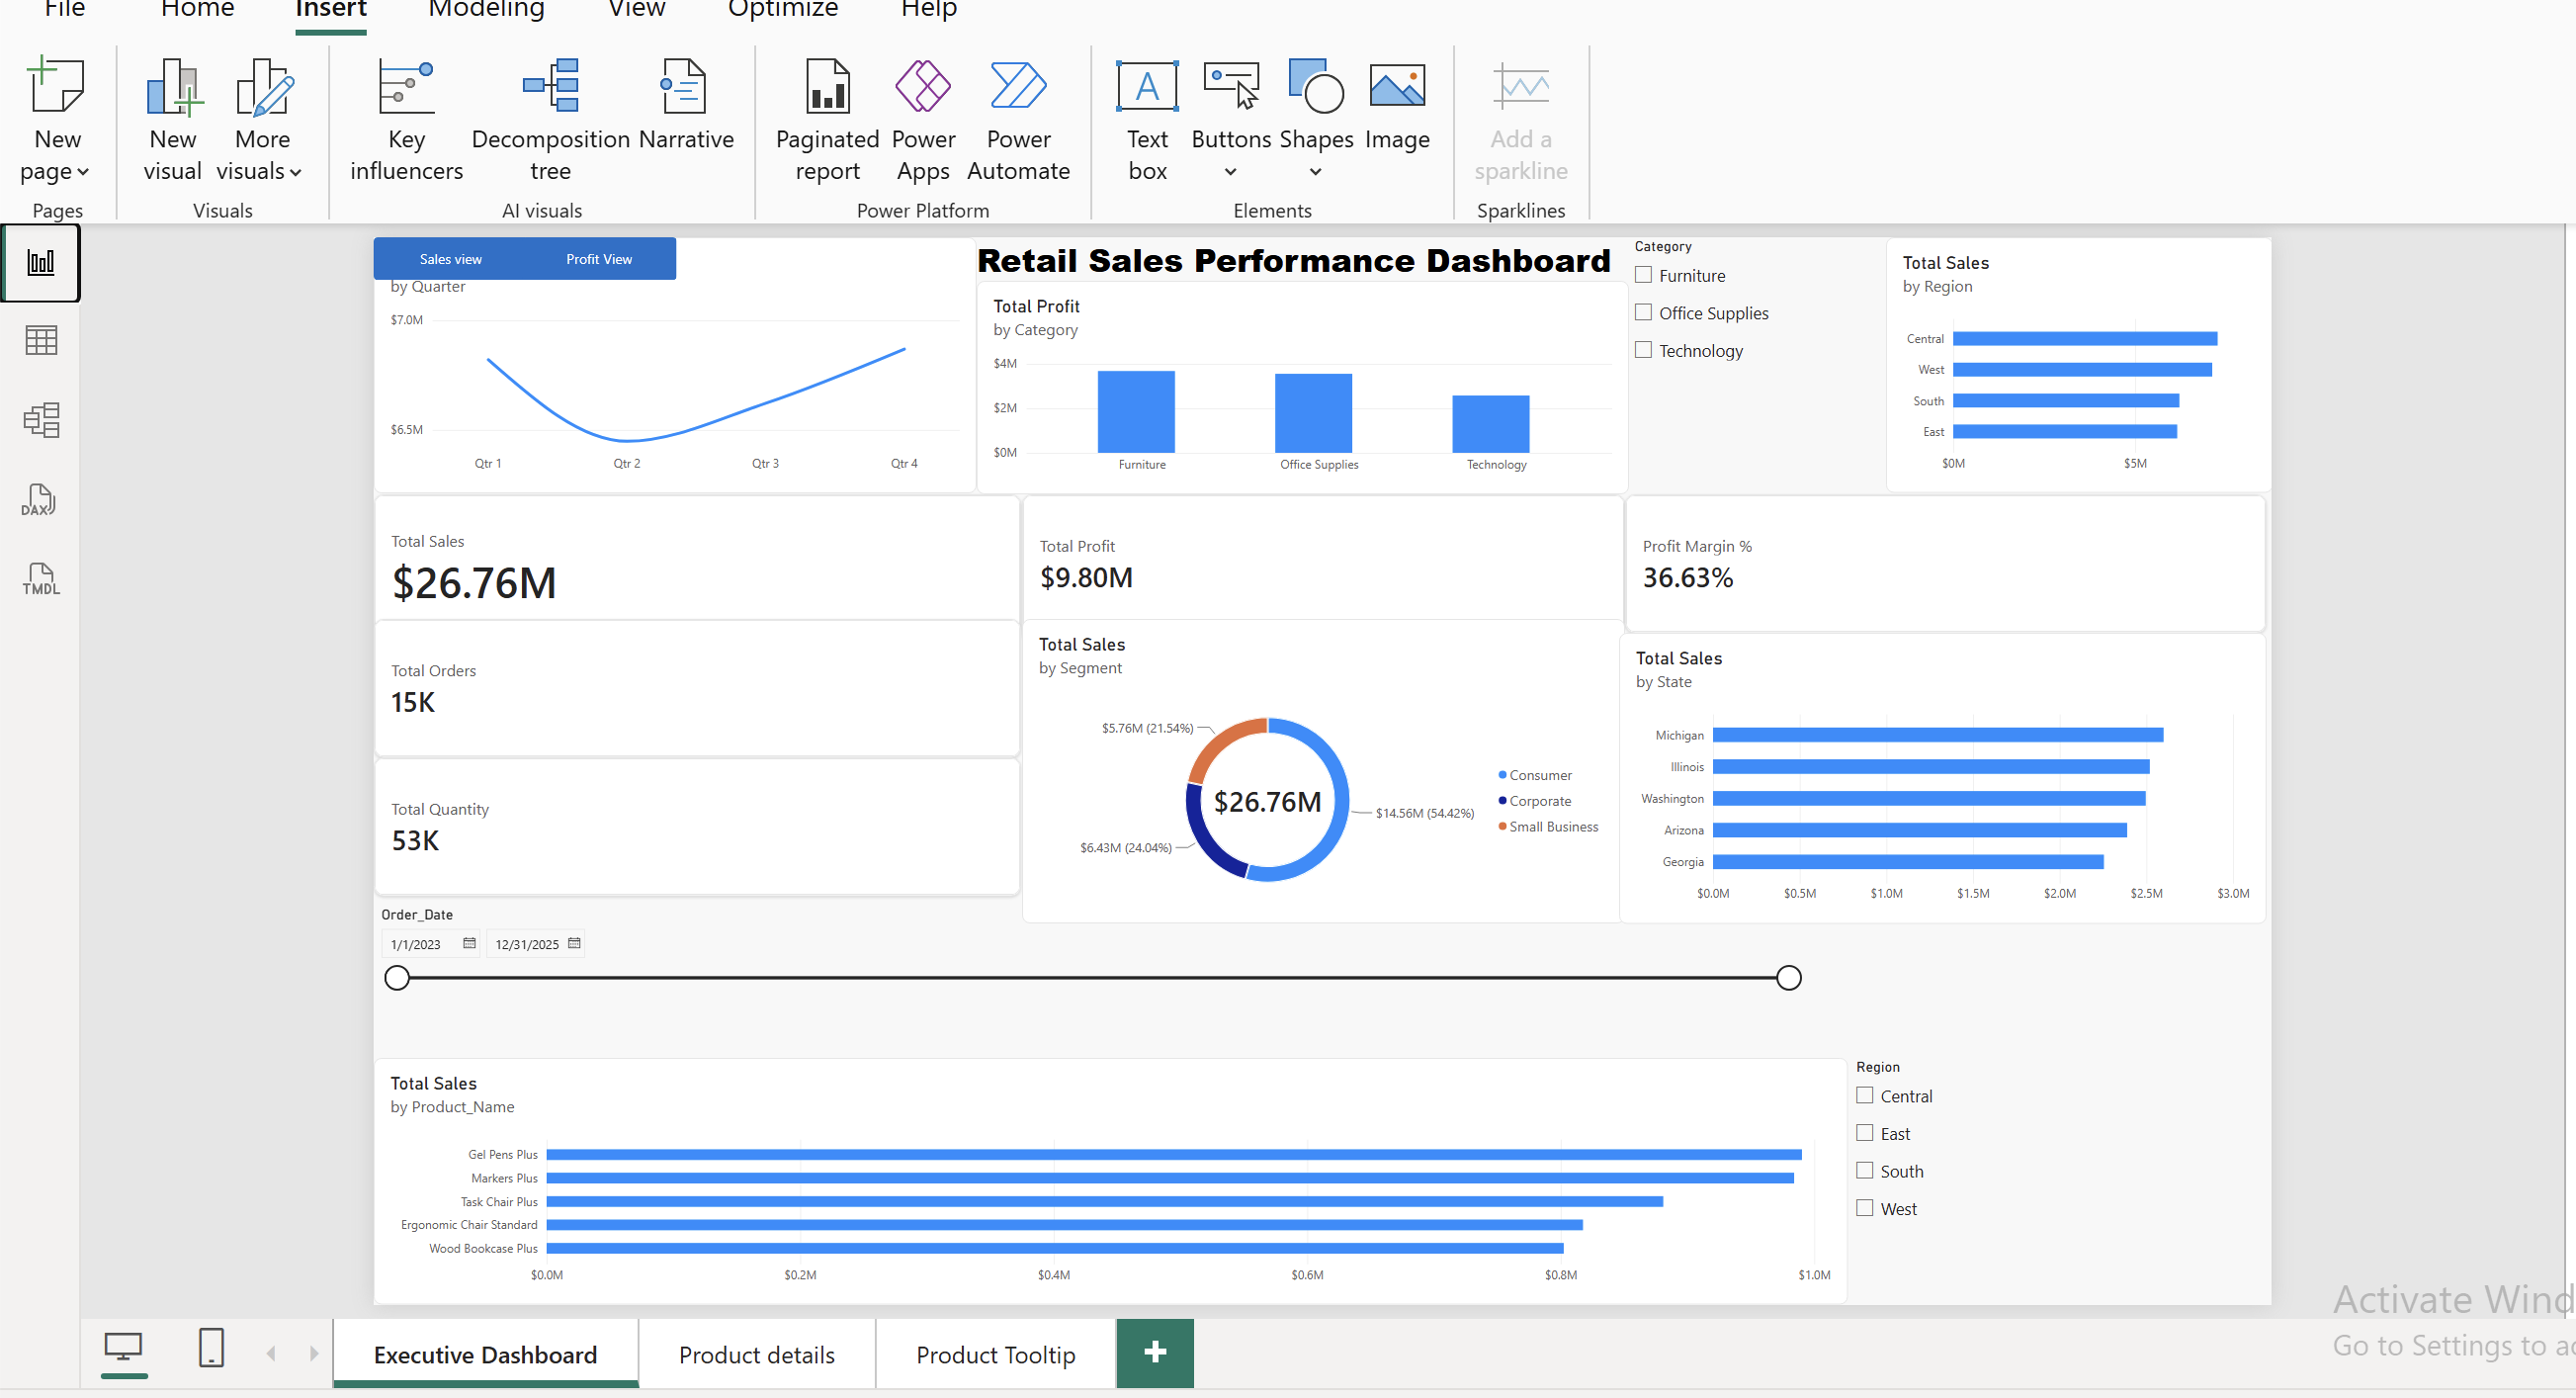

The page's visual inventory and layout, read from the dashboard file:
{"tool":"powerbi","page":{"name":"Executive Dashboard","canvas":[1920,1080],"ordinal":0},"visuals":[{"type":"cardVisual","fields":{"Data":["sales.Total Sales"]},"box":[0,259.3,655,150.1],"z":0},{"type":"cardVisual","fields":{"Data":["sales.Total Orders"]},"box":[0,386,655,140.4],"z":1000},{"type":"cardVisual","fields":{"Data":["sales.Total Quantity"]},"box":[0,526.4,655,140.4],"z":2000},{"type":"cardVisual","fields":{"Data":["sales.Total Profit"]},"box":[655,259.3,610.2,140.4],"z":3000},{"type":"cardVisual","fields":{"Data":["sales.Profit Margin %"]},"box":[1265.2,259.3,649.2,140.4],"z":4000},{"type":"lineChart","fields":{"Category":["sales.Order_Date.Variation.Date Hierarchy.Year","sales.Order_Date.Variation.Date Hierarchy.Quarter","sales.Order_Date.Variation.Date Hierarchy.Month","sales.Order_Date.Variation.Date Hierarchy.Day"],"Y":["sales.Total Sales"]},"box":[0,0,610,259],"z":6000},{"type":"clusteredBarChart","fields":{"Category":["customers.Region"],"Y":["sales.Total Sales"]},"box":[1530,0,391.4,258.6],"z":7000},{"type":"clusteredBarChart","fields":{"Category":["products.Product_Name"],"Y":["sales.Total Sales"]},"box":[0,830.5,1491.3,249.5],"z":8000},{"type":"donutChart","fields":{"Category":["customers.Segment"],"Y":["sales.Total Sales"]},"box":[657,386,610.2,308],"z":9000},{"type":"slicer","fields":{"Values":["customers.Region"]},"box":[1491,830,429,250],"z":10000},{"type":"slicer","fields":{"Values":["products.Category"]},"box":[1268,0,262,274],"z":11000},{"type":"textbox","box":[610,0,660,56],"z":12000},{"type":"clusteredBarChart","fields":{"Category":["customers.State"],"Y":["sales.Total Sales"]},"box":[1259.4,399.6,655,294.4],"z":13000},{"type":"slicer","fields":{"Values":["sales.Order_Date"]},"box":[0,676.2,1447.8,150.8],"z":13001},{"type":"clusteredColumnChart","fields":{"Category":["products.Category"],"Y":["sales.Total Profit"]},"box":[610,44,660,216],"z":13002},{"type":"actionButton","box":[0,0,156.7,43.3],"z":13003},{"type":"actionButton","box":[149.1,0,156.7,43.3],"z":13004}]}

Visuals, with their boxes on the page's 1920x1080 design canvas (x1, y1, x2, y2). These are canvas units, not pixel positions in the 2576x1398 screenshot, which may show the page scaled, cropped or inside an application window:
cardVisual - sales.Total Sales: [0,259,655,409]
cardVisual - sales.Total Orders: [0,386,655,526]
cardVisual - sales.Total Quantity: [0,526,655,667]
cardVisual - sales.Total Profit: [655,259,1265,400]
cardVisual - sales.Profit Margin %: [1265,259,1914,400]
lineChart - sales.Order_Date.Variation.Date Hierarchy.Year x sales.Order_Date.Variation.Date Hierarchy.Quarter: [0,0,610,259]
clusteredBarChart - customers.Region x sales.Total Sales: [1530,0,1921,259]
clusteredBarChart - products.Product_Name x sales.Total Sales: [0,830,1491,1080]
donutChart - customers.Segment x sales.Total Sales: [657,386,1267,694]
slicer - customers.Region: [1491,830,1920,1080]
slicer - products.Category: [1268,0,1530,274]
textbox: [610,0,1270,56]
clusteredBarChart - customers.State x sales.Total Sales: [1259,400,1914,694]
slicer - sales.Order_Date: [0,676,1448,827]
clusteredColumnChart - products.Category x sales.Total Profit: [610,44,1270,260]
actionButton: [0,0,157,43]
actionButton: [149,0,306,43]
